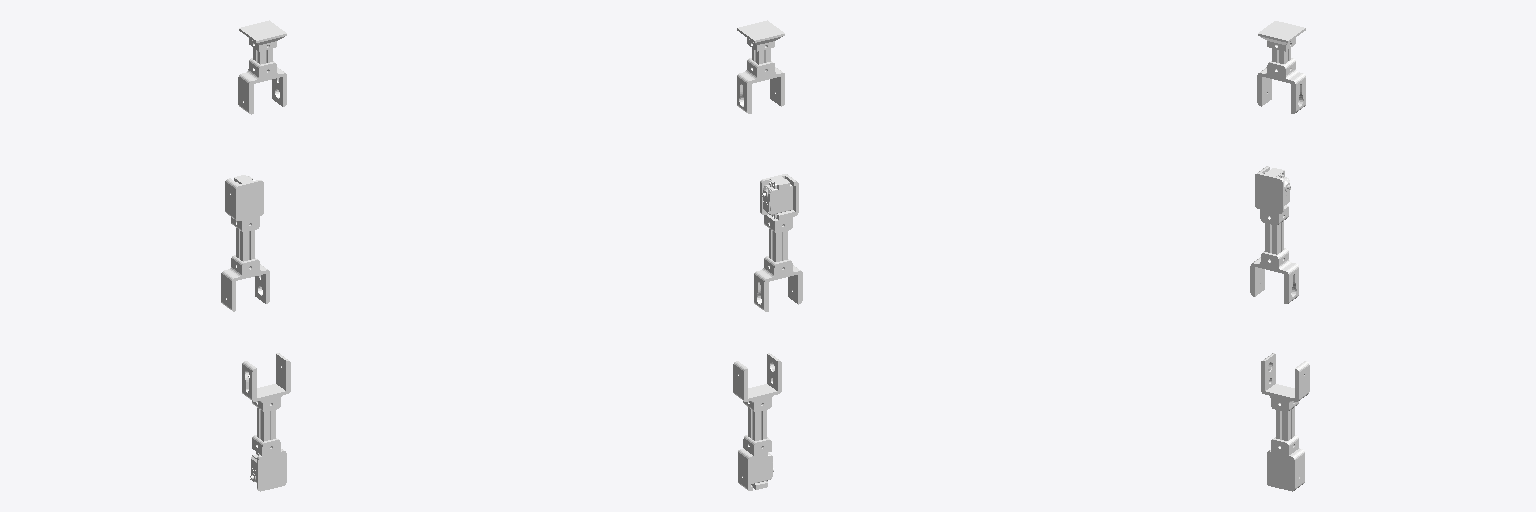
The robot description file, URDF, robot "inchworm":
<?xml version="1.0" encoding="utf-8"?>
<robot name="inchworm" 
  xmlns:xacro="http://www.ros.org/wiki/xacro">
  <!-- <link name="world" /> -->
  <!-- <link name="base_link" /> -->
  <link name="link_1">
    <inertial>
      <origin xyz="-0.0016917 -0.0012554 0.063867" rpy="0 0 0" />
      <mass value="0.10777" />
      <inertia ixx="3.8554E-05" ixy="9.4075E-07" ixz="1.709E-06" iyy="4.445E-05" iyz="1.2246E-06" izz="2.5729E-05" />
    </inertial>
    <visual>
      <origin xyz="0 0 0" rpy="0 0 0" />
      <geometry>
        <mesh filename="package://inchworm_description/meshes/link_1.STL" />
      </geometry>
      <material name="">
        <color rgba="1 1 1 1" />
      </material>
    </visual>
    <collision>
      <origin xyz="0 0 0" rpy="0 0 0" />
      <geometry>
        <mesh filename="package://inchworm_description/meshes/link_1.STL" />
      </geometry>
    </collision>
  </link>
  <!-- <joint name="world_to_link_1" type="fixed">
    <origin xyz="0 0 0" rpy="0 0 0" />
    <parent link="world" />
    <child link="link_1" />
  </joint> -->
  <!-- <joint name="fake_base_joint" type="fixed">
    <origin xyz="0 0 0" rpy="0 0 0" />
    <parent link="base_link" />
    <child link="link_1" />
  </joint> -->
  <link name="link_2">
    <inertial>
      <origin xyz="0.0033121 -0.0010932 -0.10202" rpy="0 0 0" />
      <mass value="0.12376" />
      <inertia ixx="5.6824E-05" ixy="-9.4075E-07" ixz="5.513E-07" iyy="7.822E-05" iyz="-1.2246E-06" izz="3.8675E-05" />
    </inertial>
    <visual>
      <origin xyz="0 0 0" rpy="0 0 0" />
      <geometry>
        <mesh filename="package://inchworm_description/meshes/link_2.STL" />
      </geometry>
      <material name="">
        <color rgba="1 1 1 1" />
      </material>
    </visual>
    <collision>
      <origin xyz="0 0 0" rpy="0 0 0" />
      <geometry>
        <mesh filename="package://inchworm_description/meshes/link_2.STL" />
      </geometry>
    </collision>
  </link>
  <joint name="joint_1" type="continuous">
    <origin xyz="0 -0.0002 0.10478" rpy="-3.1399 0 3.1416" />
    <parent link="link_1" />
    <child link="link_2" />
    <axis xyz="1 0 0" />
    <limit lower="0" upper="0" effort="30" velocity="0" />
  </joint>
  <!-- <transmission name="joint_1_trans">
    <type>transmission_interface/SimpleTransmission</type>
    <joint name="joint_1">
      <hardwareInterface>EffortJointInterface</hardwareInterface>
    </joint>
    <actuator name="joint_1_actuator">
      <mechanicalReduction>1</mechanicalReduction>
    </actuator>
  </transmission> -->

  <link name="link_3">
    <inertial>
      <origin xyz="0.026489 0.013907 -0.11702" rpy="0 0 0" />
      <mass value="0.12376" />
      <inertia ixx="5.6824E-05" ixy="-9.4075E-07" ixz="5.513E-07" iyy="7.822E-05" iyz="-1.2246E-06" izz="3.8675E-05" />
    </inertial>
    <visual>
      <origin xyz="0 0 0" rpy="0 0 0" />
      <geometry>
        <mesh filename="package://inchworm_description/meshes/link_3.STL" />
      </geometry>
      <material name="">
        <color rgba="1 1 1 1" />
      </material>
    </visual>
    <collision>
      <origin xyz="0 0 0" rpy="0 0 0" />
      <geometry>
        <mesh filename="package://inchworm_description/meshes/link_3.STL" />
      </geometry>
    </collision>
  </link>
  <!-- <joint name="joint_2" type="fixed">
    <origin xyz="-0.02165 -0.015204 -0.14832" rpy="0.00024788 0 0" />
    <parent link="link_2" />
    <child link="link_3" />
  </joint> -->
  <joint name="joint_2" type="continuous">
    <origin xyz="-0.02165 -0.015204 -0.14832" rpy="0.00024788 0 0" />
    <parent link="link_2" />
    <child link="link_3" />
    <axis xyz="-1 0 0" />
    <limit lower="0" upper="0" effort="30" velocity="0" />
  </joint>
  <!-- <transmission name="joint_2_trans">
    <type>transmission_interface/SimpleTransmission</type>
    <joint name="joint_2">
      <hardwareInterface>EffortJointInterface</hardwareInterface>
    </joint>
    <actuator name="joint_2_actuator">
      <mechanicalReduction>1</mechanicalReduction>
    </actuator>
  </transmission> -->

  <link name="link_4">
    <inertial>
      <origin xyz="0.025131 0.015 -0.071936" rpy="0 0 0" />
      <mass value="0.075697" />
      <inertia ixx="2.7758E-05" ixy="9.4654E-18" ixz="-1.1577E-06" iyy="4.3258E-05" iyz="7.0031E-19" izz="3.2746E-05" />
    </inertial>
    <visual>
      <origin xyz="0 0 0" rpy="0 0 0" />
      <geometry>
        <mesh filename="package://inchworm_description/meshes/link_4.STL" />
      </geometry>
      <material name="">
        <color rgba="1 1 1 1" />
      </material>
    </visual>
    <collision>
      <origin xyz="0 0 0" rpy="0 0 0" />
      <geometry>
        <mesh filename="package://inchworm_description/meshes/link_4.STL" />
      </geometry>
    </collision>
  </link>
  <!-- <joint name="joint_3" type="fixed">
    <origin xyz="0.0017 -0.00017056 -0.16329" rpy="-0.0019608 0 0" />
    <parent link="link_3" />
    <child link="link_4" />
  </joint> -->
  <joint name="joint_3" type="continuous">
    <origin xyz="0.0017 -0.00017056 -0.16329" rpy="-0.0019608 0 0" />
    <parent link="link_3" />
    <child link="link_4" />
    <axis xyz="-1 0 0" />
    <limit lower="0" upper="0" effort="30" velocity="0" />
  </joint>

  <link name="link_5">
    <inertial>
      <origin xyz="0 0 0" rpy="0 0 0" />
      <mass value="1" />
      <inertia ixx="1" ixy="0" ixz="0" iyy="1" iyz="0" izz="1" />
    </inertial>
  </link>

  <joint name="temp_joint" type="fixed">
    <origin xyz="0.051962 0.02982944 -0.307162" rpy="0 0 0" />
    <parent link="link_4" />
    <child link="link_5" />
  </joint>

  <!-- <transmission name="joint_3_trans">
    <type>transmission_interface/SimpleTransmission</type>
    <joint name="joint_3">
      <hardwareInterface>EffortJointInterface</hardwareInterface>
    </joint>
    <actuator name="joint_3_actuator">
      <mechanicalReduction>1</mechanicalReduction>
    </actuator>
  </transmission> -->

  <!-- <gazebo reference="link_1">
    <visual>
      <material>
        Gazebo/Black
      </material>
    </visual>
  </gazebo>

  <gazebo reference="link_2">
    <visual>
      <material>
        Gazebo/Orange
      </material>
    </visual>
  </gazebo>

  <gazebo reference="link_3">
    <visual>
      <material>
        Gazebo/Orange
      </material>
    </visual>
  </gazebo>

  <gazebo reference="link_4">
    <visual>
      <material>
        Gazebo/Black
      </material>
    </visual>
  </gazebo>

  <gazebo reference="joint_1"
    <implicitSpringDamper>1</implicitSpringDamper>
    <provideFeedback>true</provideFeedback>
  </gazebo>

  <gazebo reference="joint_2"
    <implicitSpringDamper>1</implicitSpringDamper>
    <provideFeedback>true</provideFeedback>
  </gazebo>

  <gazebo reference="joint_3"
    <implicitSpringDamper>1</implicitSpringDamper>
    <provideFeedback>true</provideFeedback>
  </gazebo>

  <gazebo>
    <plugin filename="libgazebo_ros_ft_sensor.so" name="ft_sensor_joint_1_plugin">
      <updateRate>100.0</updateRate>
      <topicName>inchworm/ft_sensor/joint_1</topicName>
      <jointName>joint_1</jointName>
    </plugin>
  </gazebo>

  <gazebo>
    <plugin filename="libgazebo_ros_ft_sensor.so" name="ft_sensor_joint_2_plugin">
      <updateRate>100.0</updateRate>
      <topicName>inchworm/ft_sensor/joint_2</topicName>
      <jointName>joint_2</jointName>
    </plugin>
  </gazebo>

  <gazebo>
    <plugin filename="libgazebo_ros_ft_sensor.so" name="ft_sensor_joint_3_plugin">
      <updateRate>100.0</updateRate>
      <topicName>inchworm/ft_sensor/joint_3</topicName>
      <jointName>joint_3</jointName>
    </plugin>
  </gazebo>

  <gazebo>
    <plugin filename="libgazebo_ros_control.so" name="gazebo_ros_control">
      <robotNamespace>/inchworm</robotNamespace>
      <robotSimType>gazebo_ros_control/DefaultRobotHWSim</robotSimType>
    </plugin>
  </gazebo>

  <gazebo>
    <plugin filename="libgazebo_ros_p3d.so" name="odom_link_1">
      <frameName>world</frameName>
      <bodyName>link_1</bodyName>
      <topicName>inchworm/odom/link_1</topicName>
      <updateRate>30.0</updateRate>
    </plugin>

    <plugin filename="libgazebo_ros_p3d.so" name="odom_link_2">
      <frameName>world</frameName>
      <bodyName>link_2</bodyName>
      <topicName>inchworm/odom/link_2</topicName>
      <updateRate>30.0</updateRate>
    </plugin>

    <plugin filename="libgazebo_ros_p3d.so" name="odom_link_3">
      <frameName>world</frameName>
      <bodyName>link_3</bodyName>
      <topicName>inchworm/odom/link_3</topicName>
      <updateRate>30.0</updateRate>
    </plugin>

    <plugin filename="libgazebo_ros_p3d.so" name="odom_link_4">
      <frameName>world</frameName>
      <bodyName>link_4</bodyName>
      <topicName>inchworm/odom/link_4</topicName>
      <updateRate>30.0</updateRate>
    </plugin>
  </gazebo> -->


</robot>

--- Render facts (derived) ---
Views: 3 orthographic renders of the robot side by side, from view 1: azimuth 30°, elevation 25°; view 2: azimuth 210°, elevation 25°; view 3: azimuth 330°, elevation 25°.
Model inchworm with 5 links and 4 joints (3 continuous, 1 fixed), rooted at link_1, posed all joints at 0.
Links seen in each view (by area): view 1: link_2, link_1, link_4; view 2: link_2, link_1, link_4; view 3: link_1, link_2, link_4.
Boxes of the visible links, bbox=[...] form: link_2: bbox=[221, 175, 269, 311]; link_1: bbox=[242, 353, 290, 491]; link_4: bbox=[238, 20, 286, 114]; link_2: bbox=[754, 174, 802, 311]; link_1: bbox=[733, 353, 781, 490]; link_4: bbox=[737, 20, 784, 113]; link_1: bbox=[1261, 353, 1309, 491]; link_2: bbox=[1250, 166, 1298, 303]; link_4: bbox=[1257, 21, 1305, 113].
Bounding box of the posed robot: 0.0891 × 0.0553 × 0.7169 m (x, y, z).
Meshes: 4 distinct files referenced, 3 mesh visuals loaded (3 binary STL); not drawn: 1 (reference not matched to a file when rendering).